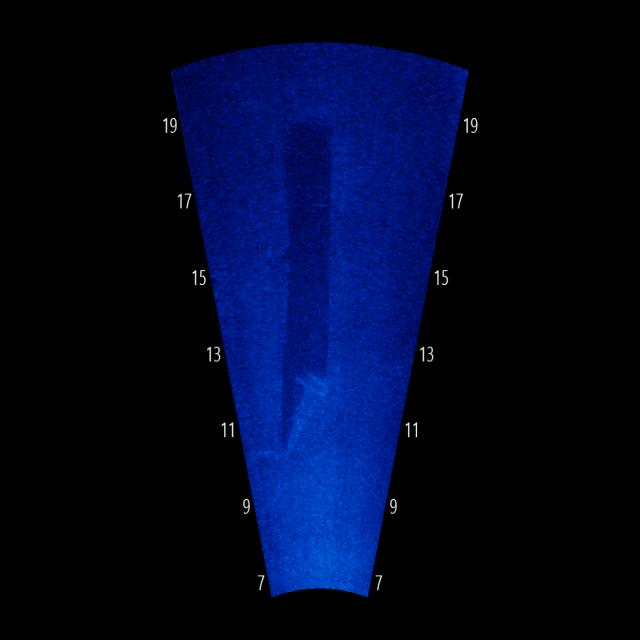triangle: (271, 353, 336, 463)
